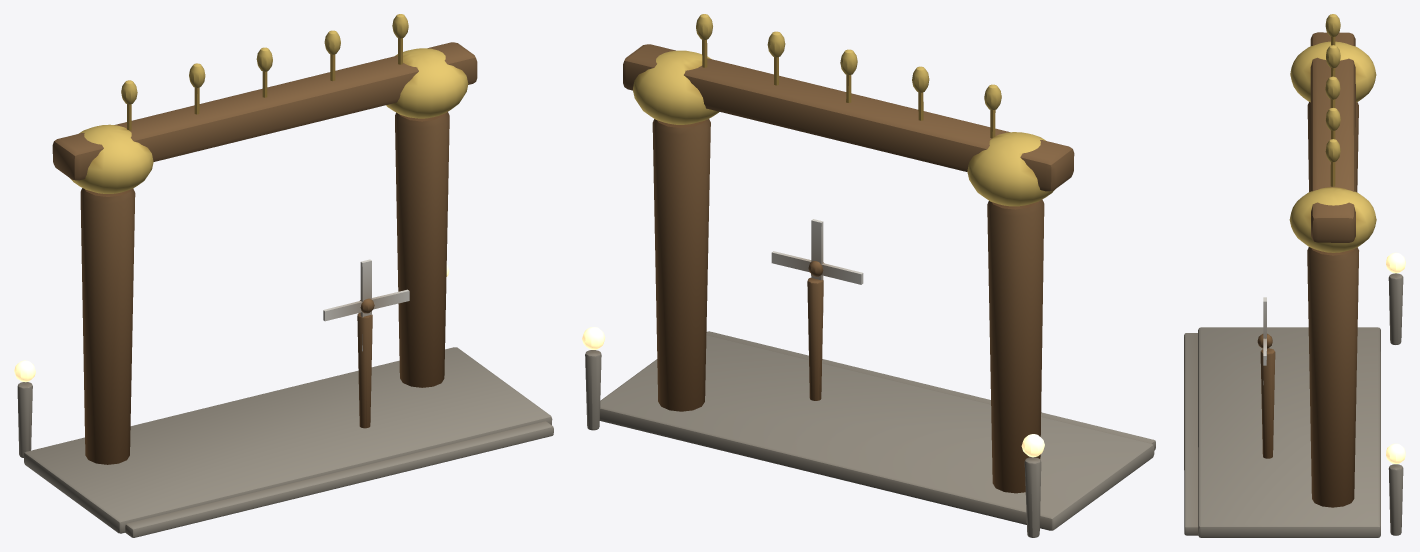
3 renders of one model, left to right at view 1: azimuth 30°, elevation 25°; view 2: azimuth 150°, elevation 25°; view 3: azimuth 270°, elevation 25°, orthographic. The views are drawn at different scales.
Visible parts, largest first — view 1: gate_98dc566f; view 2: gate_98dc566f; view 3: gate_98dc566f.
Boxes of the visible parts, bbox=[...] form: gate_98dc566f: bbox=[14, 14, 553, 537]; gate_98dc566f: bbox=[582, 14, 1155, 537]; gate_98dc566f: bbox=[1184, 14, 1405, 537].
Bounding box in the file's own units: 5.44 × 4.59 × 2.54.
